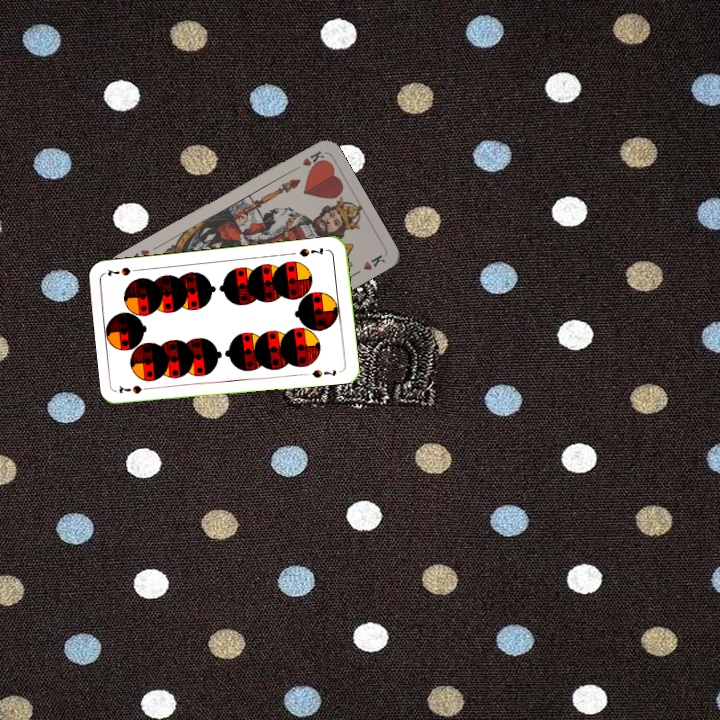HK: (287, 147, 327, 173)
S7: (115, 381, 156, 396), (295, 243, 326, 259)
